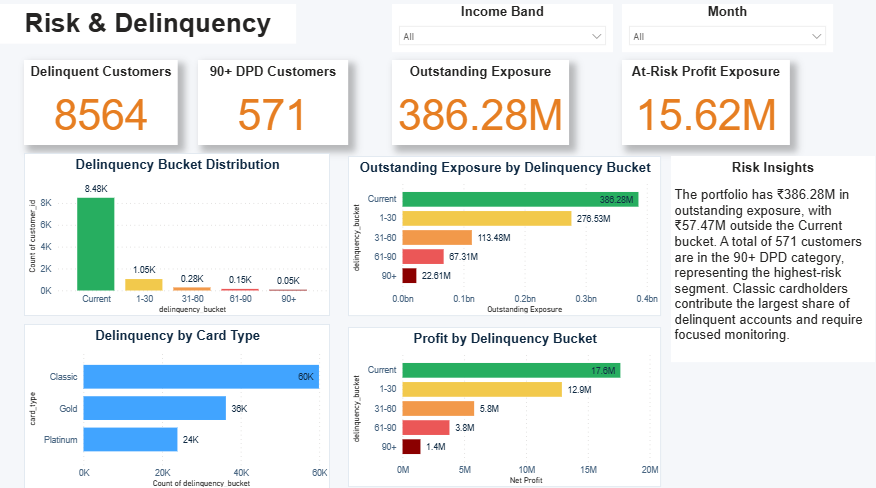

Layout of this report page (visuals, bound fields, positions):
{"tool":"powerbi","page":{"name":"Risk & Delinquency","canvas":[1280,720],"ordinal":2},"visuals":[{"type":"textbox","box":[9.9,19.8,417.9,56.5],"z":0},{"type":"card","title":"Delinquent Customers","fields":{"Values":["Matrix.Delinquent Customers"]},"box":[43.8,98.8,217.4,120],"z":1000},{"type":"card","title":"At-Risk Profit Exposure","fields":{"Values":["Matrix.At Risk Profit Exposure"]},"box":[888,98.8,237.2,120],"z":2000},{"type":"card","title":"Outstanding Exposure","fields":{"Values":["Matrix.Outstanding Exposure"]},"box":[563.3,98.8,249.9,120],"z":3000},{"type":"card","title":"90+ DPD Customers","fields":{"Values":["Matrix.90+ DPD Customers"]},"box":[289.4,98.8,211.8,120],"z":4000},{"type":"clusteredColumnChart","title":"Delinquency Bucket Distribution","fields":{"Category":["delinquency.delinquency_bucket"],"Y":["Count(delinquency.customer_id)"]},"box":[43.8,230.1,432,230.1],"z":5000},{"type":"barChart","title":"Outstanding Exposure by Delinquency Bucket","fields":{"Category":["delinquency.delinquency_bucket"],"Y":["Matrix.Outstanding Exposure"]},"box":[501.2,234.4,441.9,225.9],"z":6000},{"type":"barChart","title":"Delinquency by Card Type","fields":{"Category":["cardholders.card_type"],"Y":["CountNonNull(delinquency.delinquency_bucket)"]},"box":[43.8,471.5,432,234.4],"z":7000},{"type":"slicer","title":"Income Band","fields":{"Values":["cardholders.income_band"]},"box":[563.3,19.8,312,67.8],"z":8000},{"type":"slicer","title":"Month","fields":{"Values":["delinquency.month"]},"box":[888,19.8,297.9,67.8],"z":9000},{"type":"textbox","box":[957.2,234.4,288,290.8],"z":10000},{"type":"barChart","title":"Profit by Delinquency Bucket","fields":{"Category":["delinquency.delinquency_bucket"],"Y":["Matrix.Net Profit"]},"box":[501.2,475.8,441.9,225.9],"z":11000}]}

Visuals, with their boxes in screenshot pixels (x1, y1, x2, y2), scaled from the page's 1280x720 canvas onto the 876x488 screenshot:
textbox: detection(7, 13, 293, 52)
"Delinquent Customers" card: detection(30, 67, 179, 148)
"At-Risk Profit Exposure" card: detection(608, 67, 770, 148)
"Outstanding Exposure" card: detection(386, 67, 557, 148)
"90+ DPD Customers" card: detection(198, 67, 343, 148)
"Delinquency Bucket Distribution" clusteredColumnChart: detection(30, 156, 326, 312)
"Outstanding Exposure by Delinquency Bucket" barChart: detection(343, 159, 645, 312)
"Delinquency by Card Type" barChart: detection(30, 320, 326, 478)
"Income Band" slicer: detection(386, 13, 599, 59)
"Month" slicer: detection(608, 13, 812, 59)
textbox: detection(655, 159, 852, 356)
"Profit by Delinquency Bucket" barChart: detection(343, 322, 645, 476)
